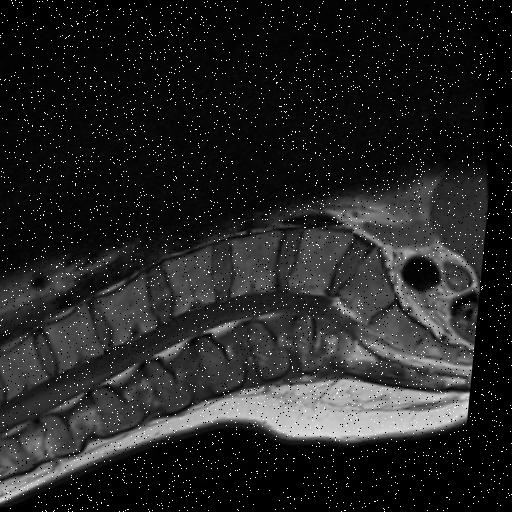L1: (51, 305, 111, 372)
L2: (101, 276, 163, 348)
L3: (168, 250, 222, 318)
L4: (238, 235, 285, 301)
L5: (295, 235, 359, 300)
S1: (346, 254, 402, 329)
